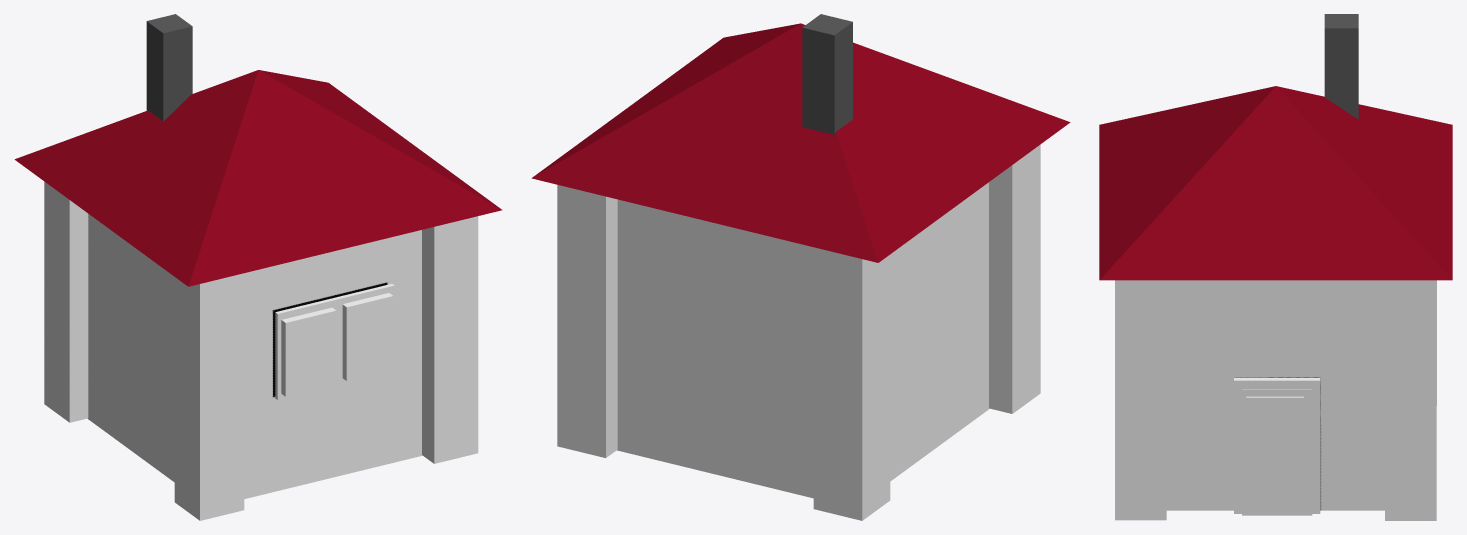
The model's file is Knihovna.fbx.
The picture shows the model from 3 angles, left to right: view 1: azimuth 30°, elevation 25°; view 2: azimuth 150°, elevation 25°; view 3: azimuth 270°, elevation 25°; orthographic projection. The views are drawn at different scales.
Visible parts, largest first — view 1: root (×9); view 2: root (×6); view 3: root (×8).
Boxes of the visible parts, left/top/right/bottom form: root (×9): left=14, top=14, right=502, bottom=520; root (×6): left=531, top=14, right=1070, bottom=520; root (×8): left=1099, top=14, right=1452, bottom=520.
Size of the model in its own units: 0.5894 by 0.7141 by 0.5654.
Materials: 9 (3 with a texture image).
